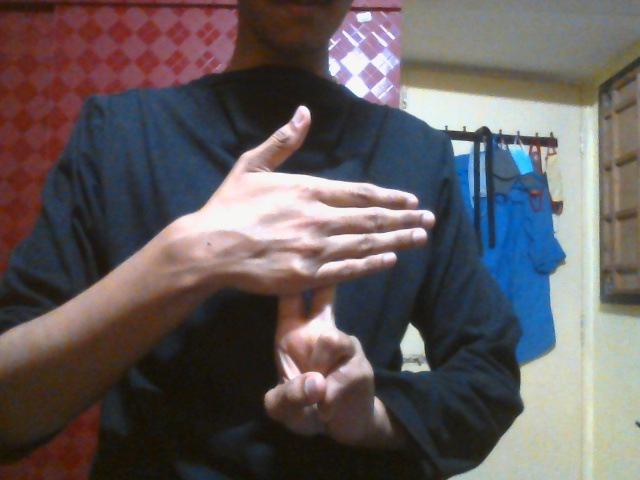N: (198, 101, 438, 447)
